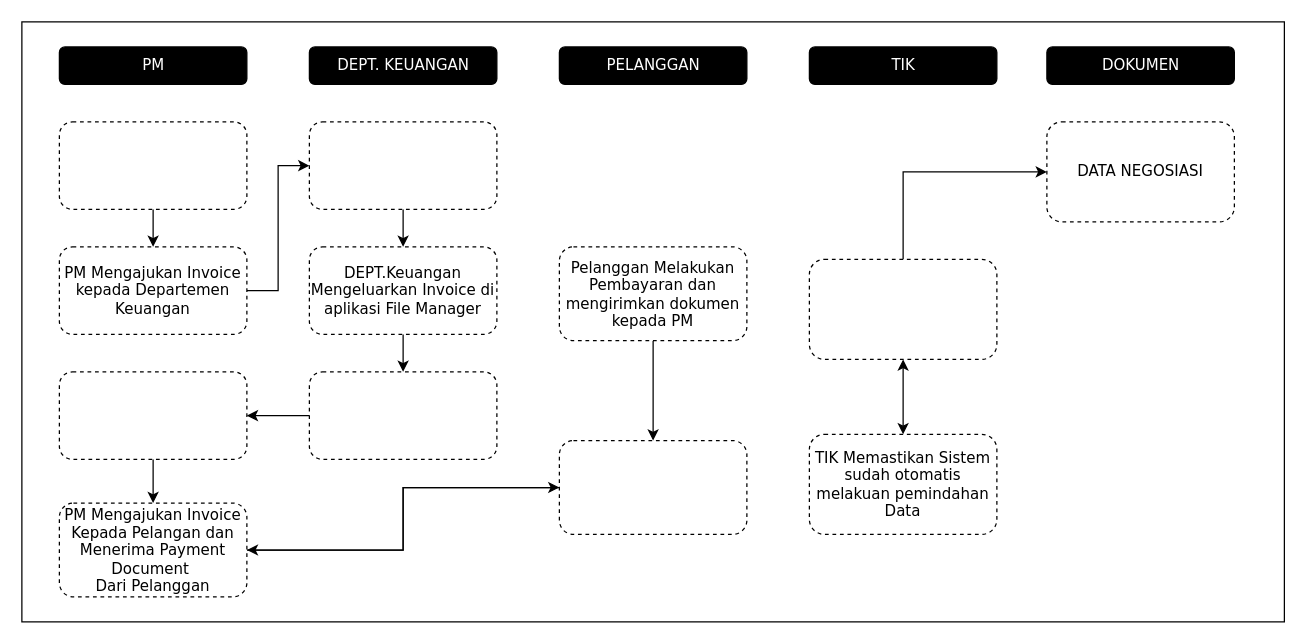
The diagram is 1306 pixels wide and 644 high, and some of its shapes have lost their labels. Here are the shapes that lost their labels. From the top down, the centre of each, then its label:
point (152, 165): PM Mengecek tanggal dan memastikan proyek masih Reachable
point (402, 165): DEPT.Keuangan Menerima pengajuan Invoice
point (902, 308): TIK Melakukan pengecekan error pada data ataupun file terkait
point (152, 415): PM Menerima Invoice dan Penagihan dari Dept Keuangan
point (402, 415): DEPT.Keuangan Mengajukan Penagihan dengan memberikan Invoice kepada PM
point (652, 486): Pelanggan Menerima Invoice dan Penagihan dari PM
